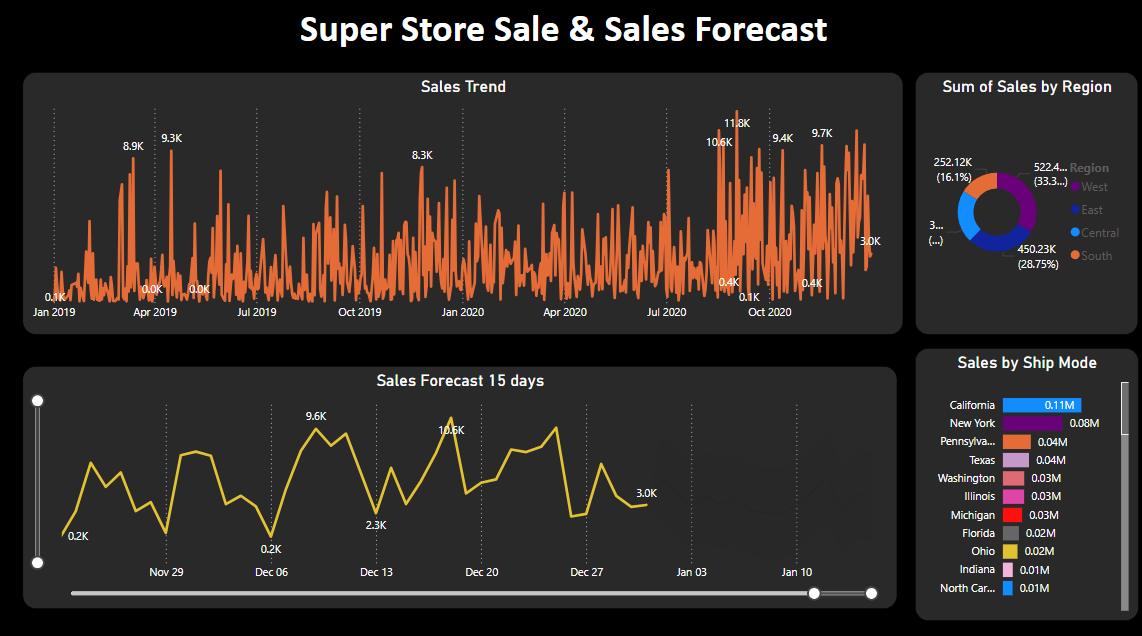

The dashboard page shown, as its layout file describes it:
{"tool":"powerbi","page":{"name":"Page 2","canvas":[1280,720],"ordinal":1},"visuals":[{"type":"lineChart","title":"Sales Trend","fields":{"Y":["Sum(Sheet1.Sales)"],"Category":["Sheet1.Order Date"]},"box":[28.3,83.3,978.3,291.7],"z":0},{"type":"clusteredBarChart","title":"Sales by Ship Mode","fields":{"Category":["Sheet1.State","Sheet1.Ship Mode"],"Y":["Sum(Sheet1.Sales)"]},"box":[1020,390,248.3,303.3],"z":1000},{"type":"textbox","box":[331.7,3.3,948.3,80],"z":2000},{"type":"lineChart","title":"Sales Forecast 15 days","fields":{"Y":["Sum(Sheet1.Sales)"],"Category":["Sheet1.Order Date"]},"box":[28.3,410,971.7,270],"z":3000},{"type":"donutChart","fields":{"Category":["Sheet1.Region"],"Y":["Sum(Sheet1.Sales)"]},"box":[1020,83,248,292],"z":4000}]}

Visuals, with their boxes in screenshot pixels (x1, y1, x2, y2), scaled from the page's 1280x720 canvas onto the 1142x636 screenshot:
"Sales Trend" lineChart: box=[25, 74, 898, 331]
"Sales by Ship Mode" clusteredBarChart: box=[910, 344, 1132, 612]
textbox: box=[296, 3, 1141, 74]
"Sales Forecast 15 days" lineChart: box=[25, 362, 892, 601]
donutChart - Sheet1.Region x Sum(Sheet1.Sales): box=[910, 73, 1131, 331]
